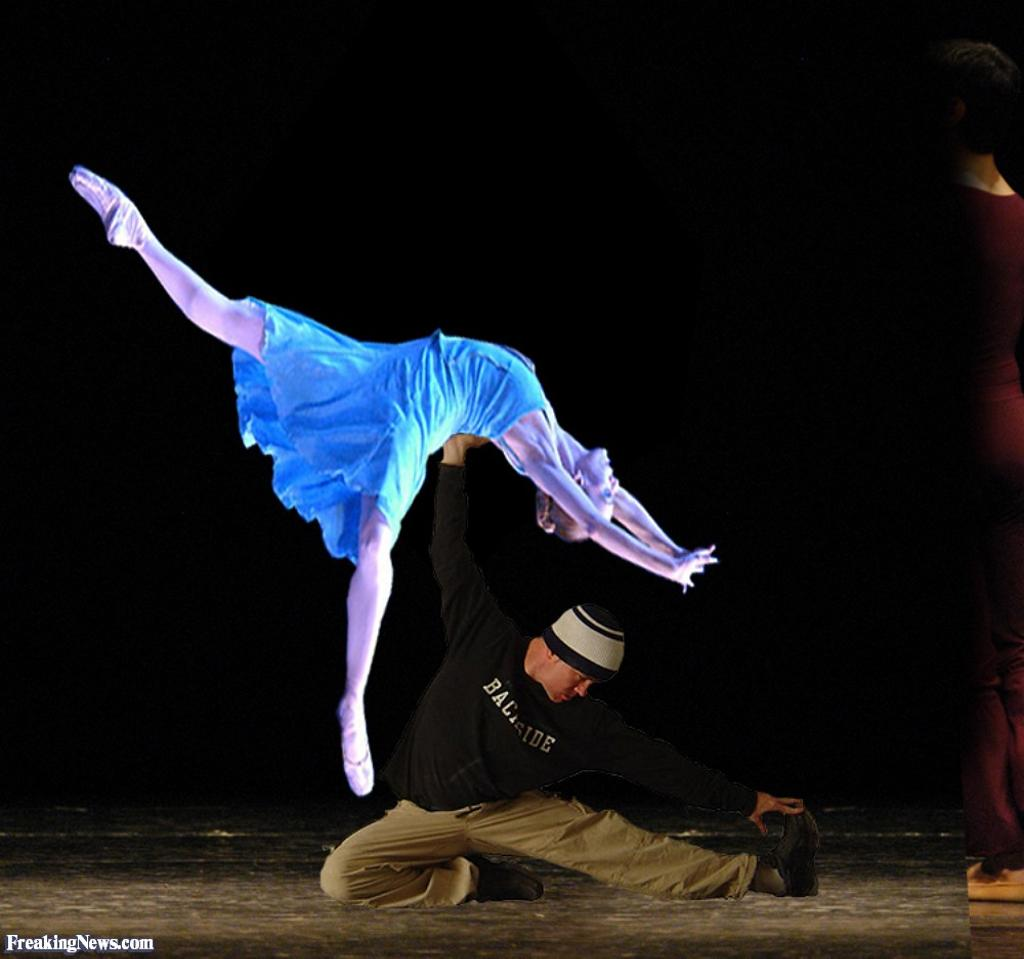face: (568, 450, 624, 538), (548, 640, 604, 714)
